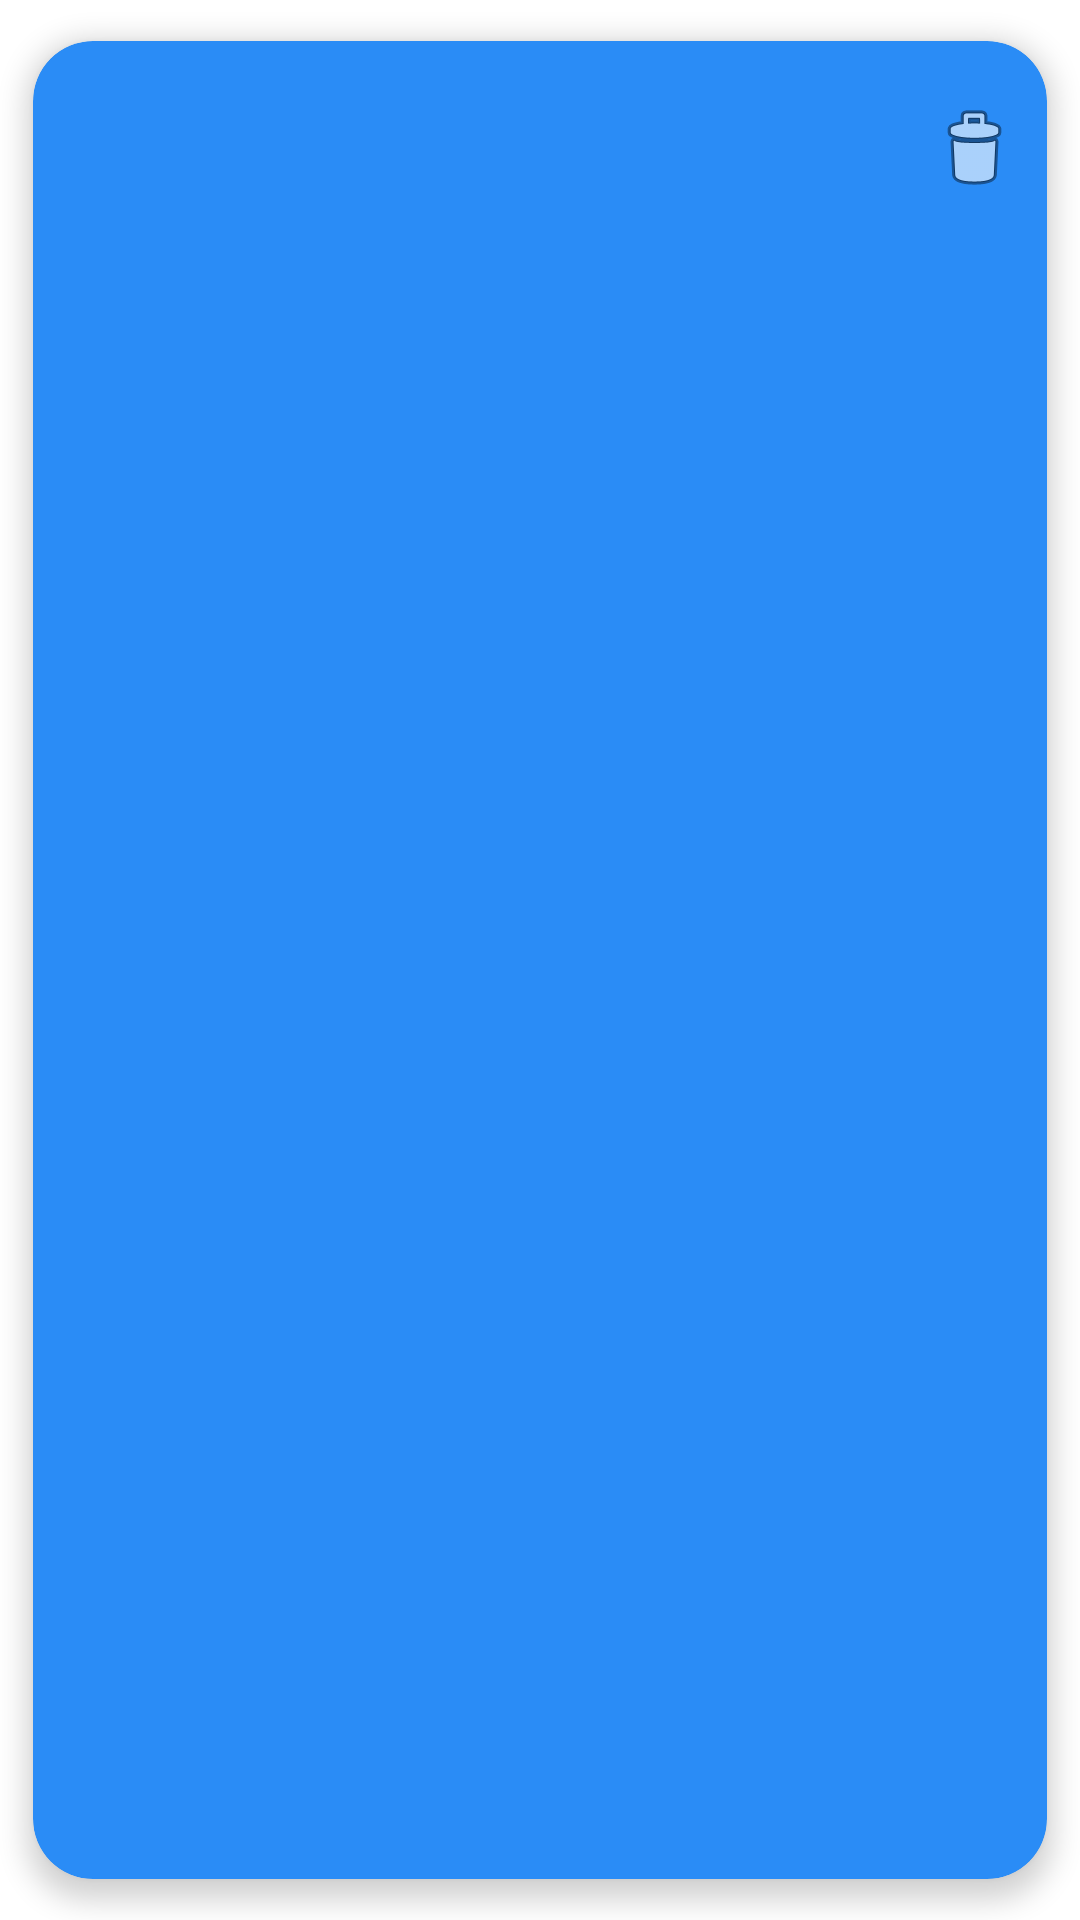

Icon click points for this 1080 x 1920 phone screenshot, format (x=x, y=y):
delete: (x=974, y=147)
